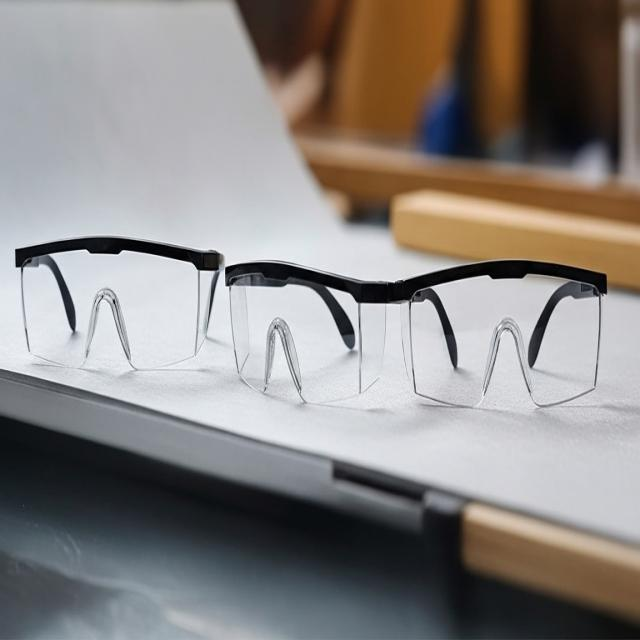oculos-epi: (225, 258, 606, 408), (15, 237, 223, 368)
